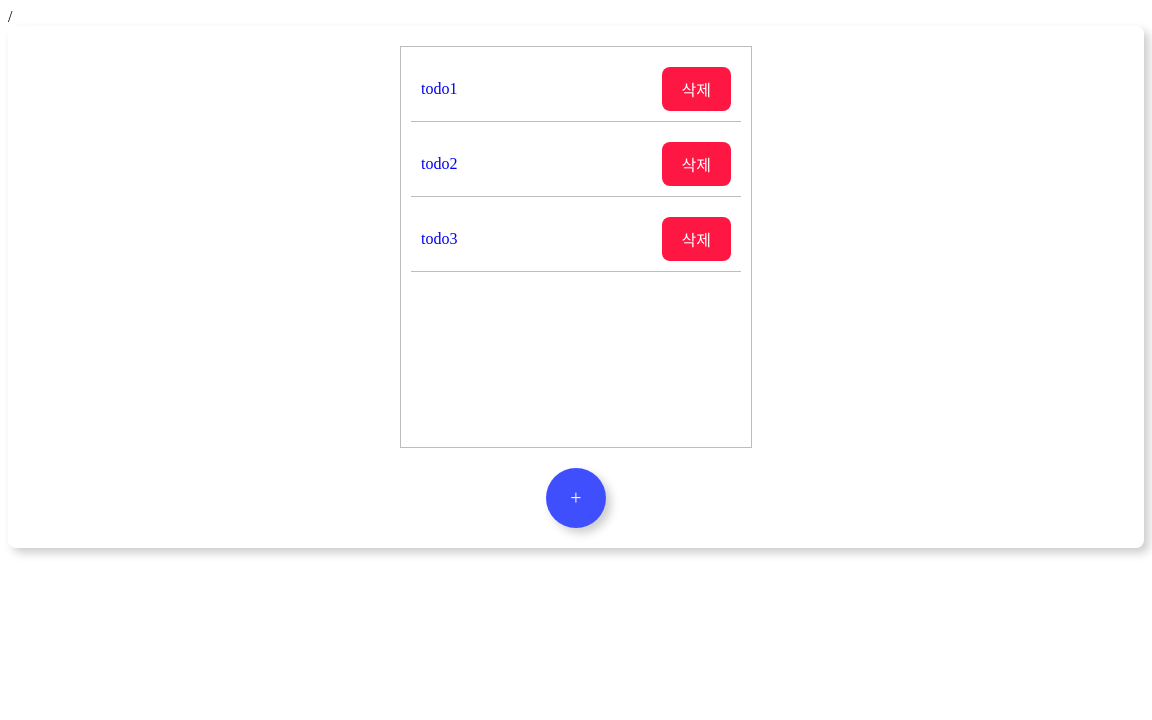
<List> › moves detail page
Expected: the text "/" is shown, [8, 8, 12, 25]
What coordinates should you click on to do the following:
click the link "todo1"
I would click on:
 (439, 88)
Its box is [421, 80, 458, 97].
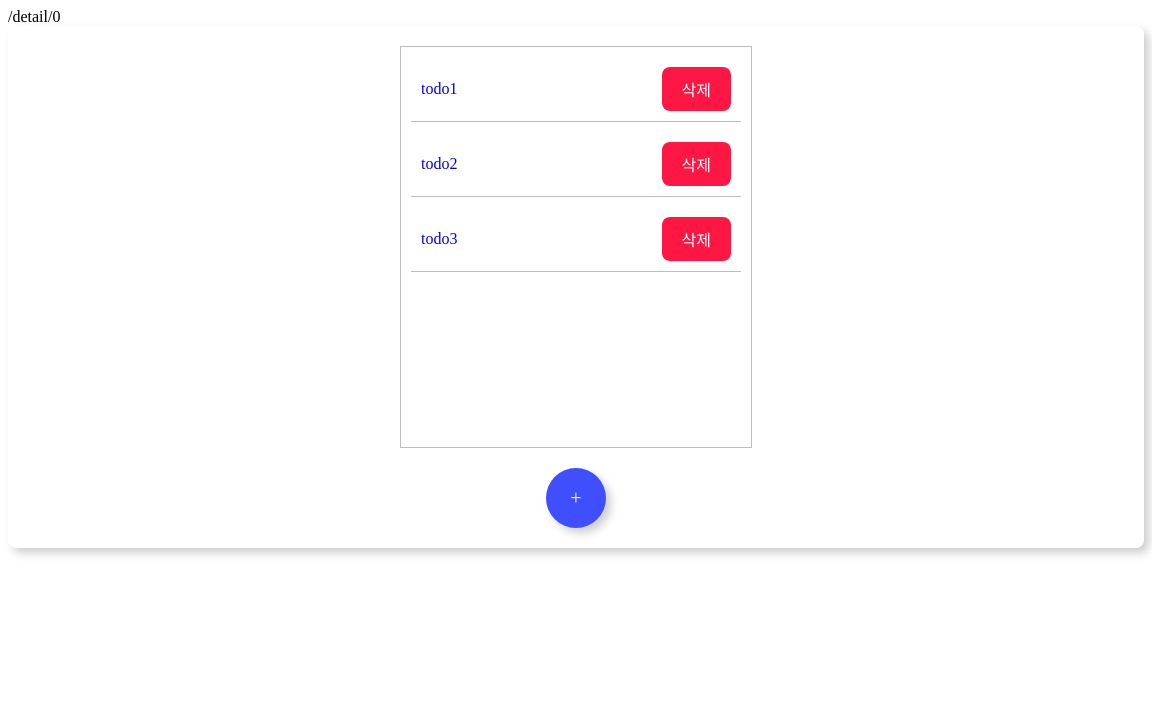
Expected: the text "/" reads "/detail/0", [8, 8, 60, 25]
